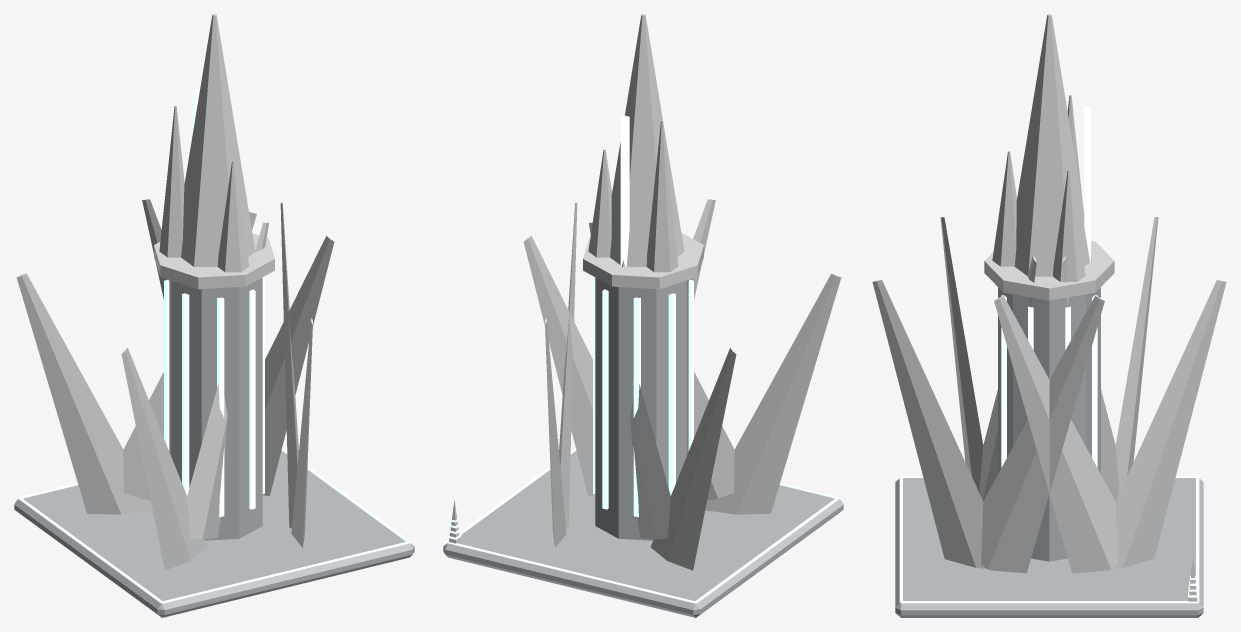
File: zone_high_2_t4.glb
3 views of the same model, side by side, from view 1: azimuth 30°, elevation 25°; view 2: azimuth 150°, elevation 25°; view 3: azimuth 270°, elevation 25° (orthographic). The views are drawn at different scales.
Visible parts, largest first — view 1: zone_high_2_t4, detail; view 2: zone_high_2_t4, detail; view 3: zone_high_2_t4, detail.
Boxes of the visible parts, x1,y1,x2,y2 form: zone_high_2_t4: (14,14,414,617); detail: (18,447,410,603); zone_high_2_t4: (443,14,843,617); detail: (447,447,839,603); zone_high_2_t4: (872,14,1226,617); detail: (899,476,1199,603).
Bounding box in the file's own units: 29.29 × 56.4 × 31.58.
